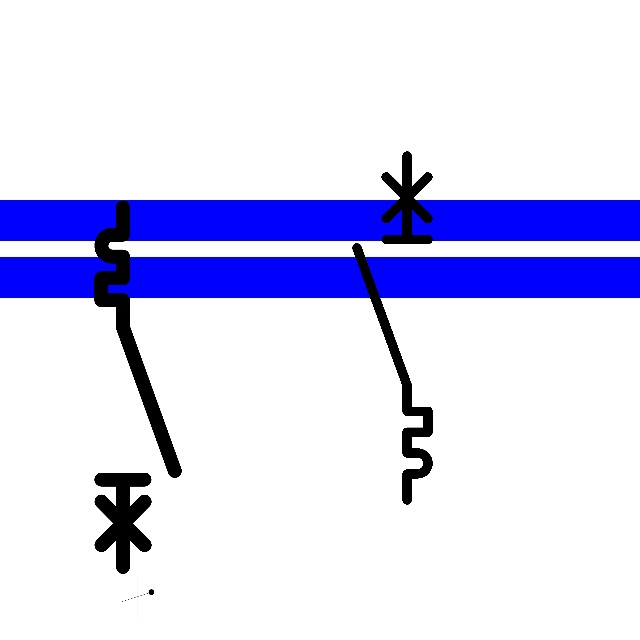interruptor_termomagnetico: (92, 198, 184, 576), (348, 147, 437, 509)
